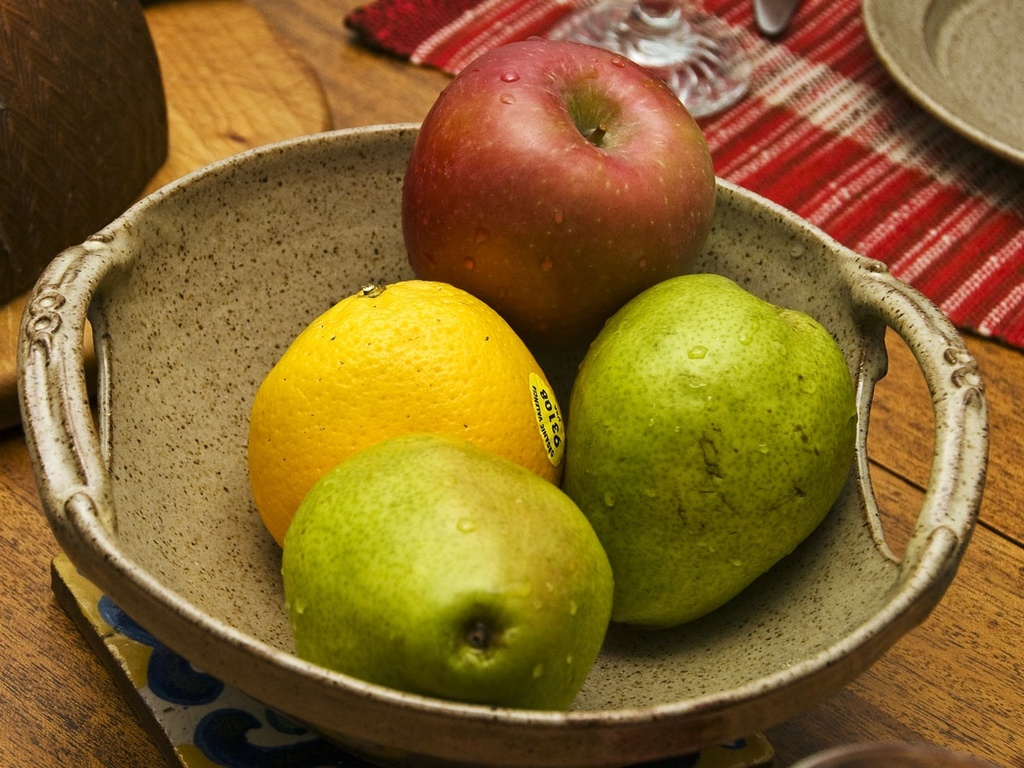Apple: (387, 40, 725, 331)
